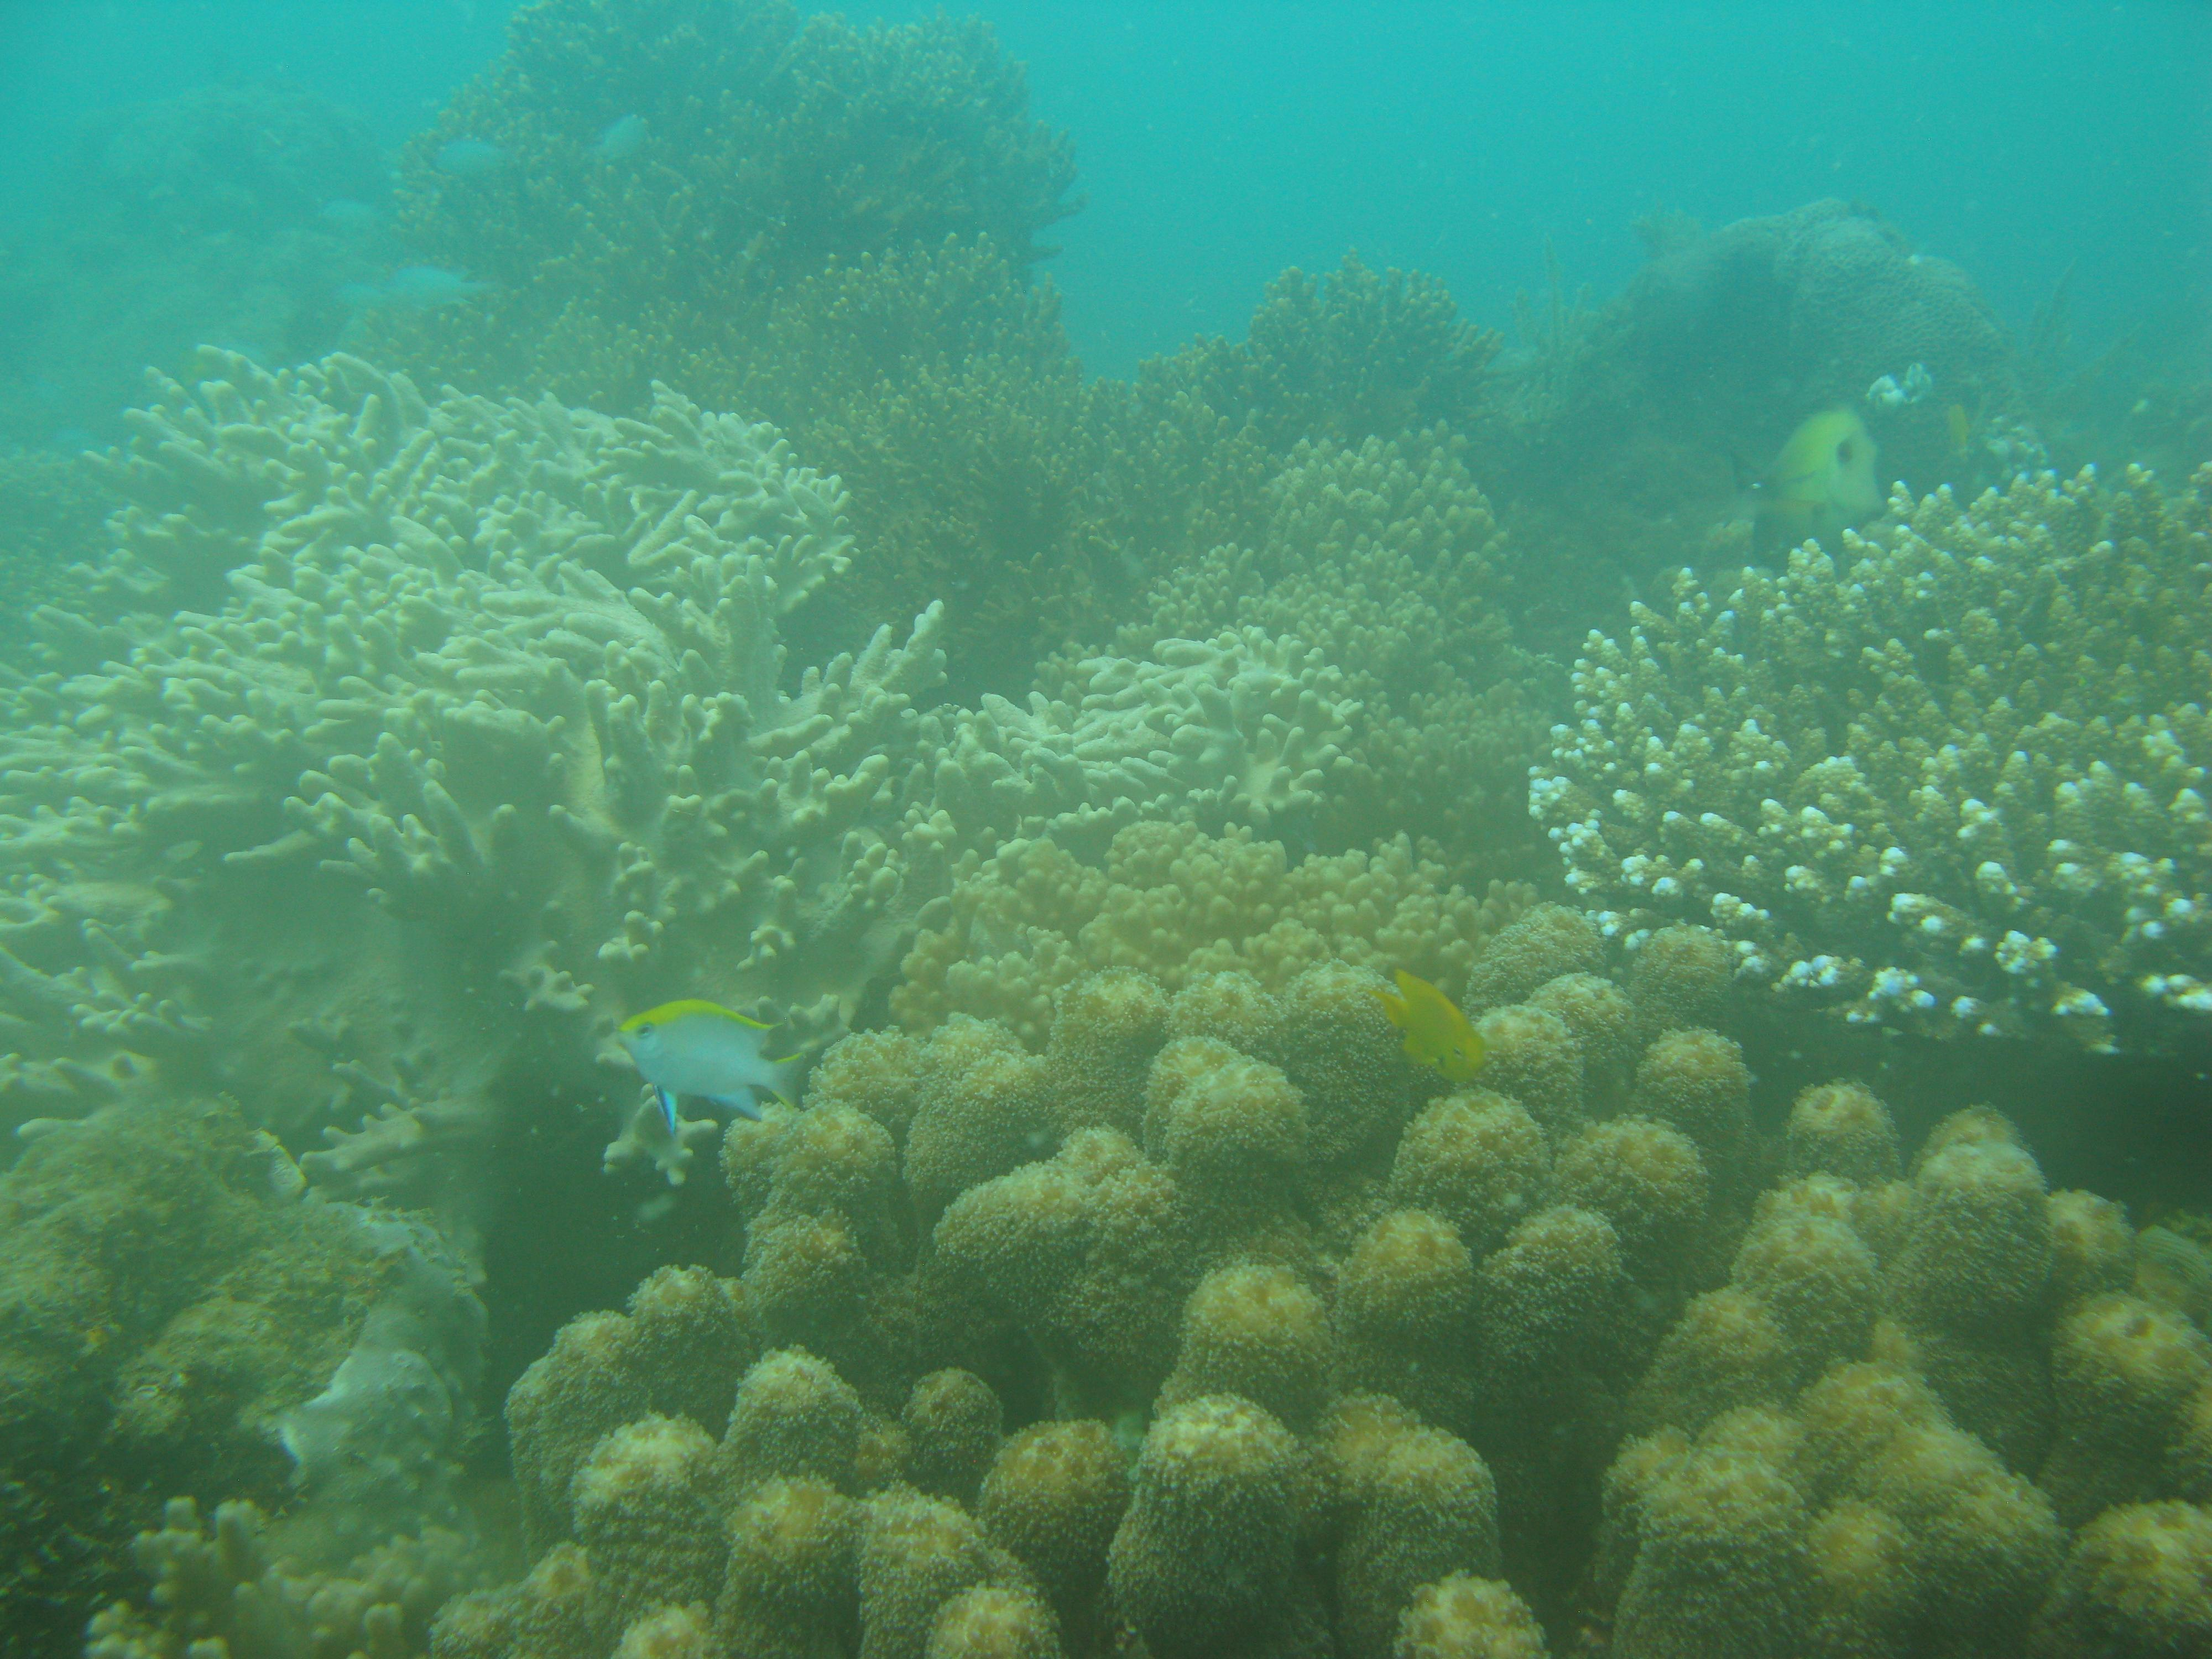Fish: (495, 960, 897, 1150)
